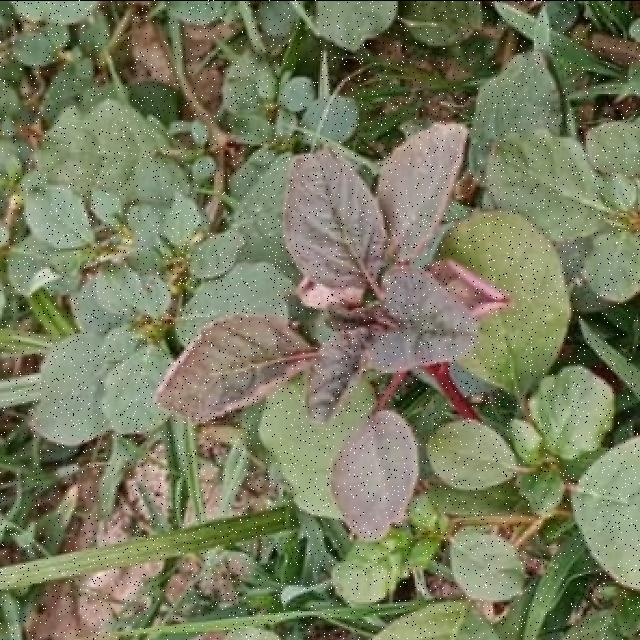plant: (156, 122, 508, 539)
